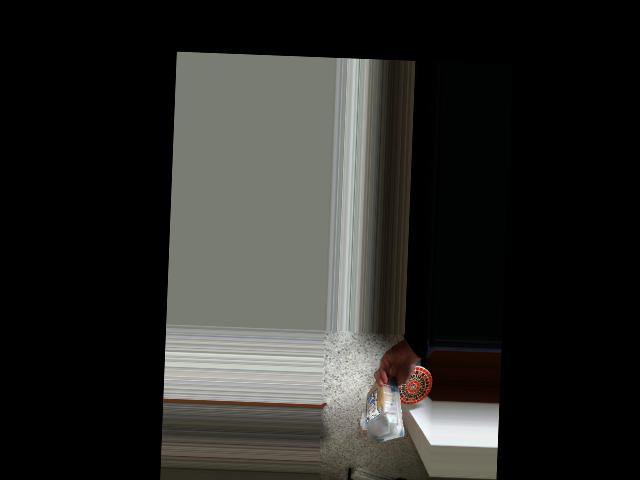cheese: (364, 377, 403, 444)
